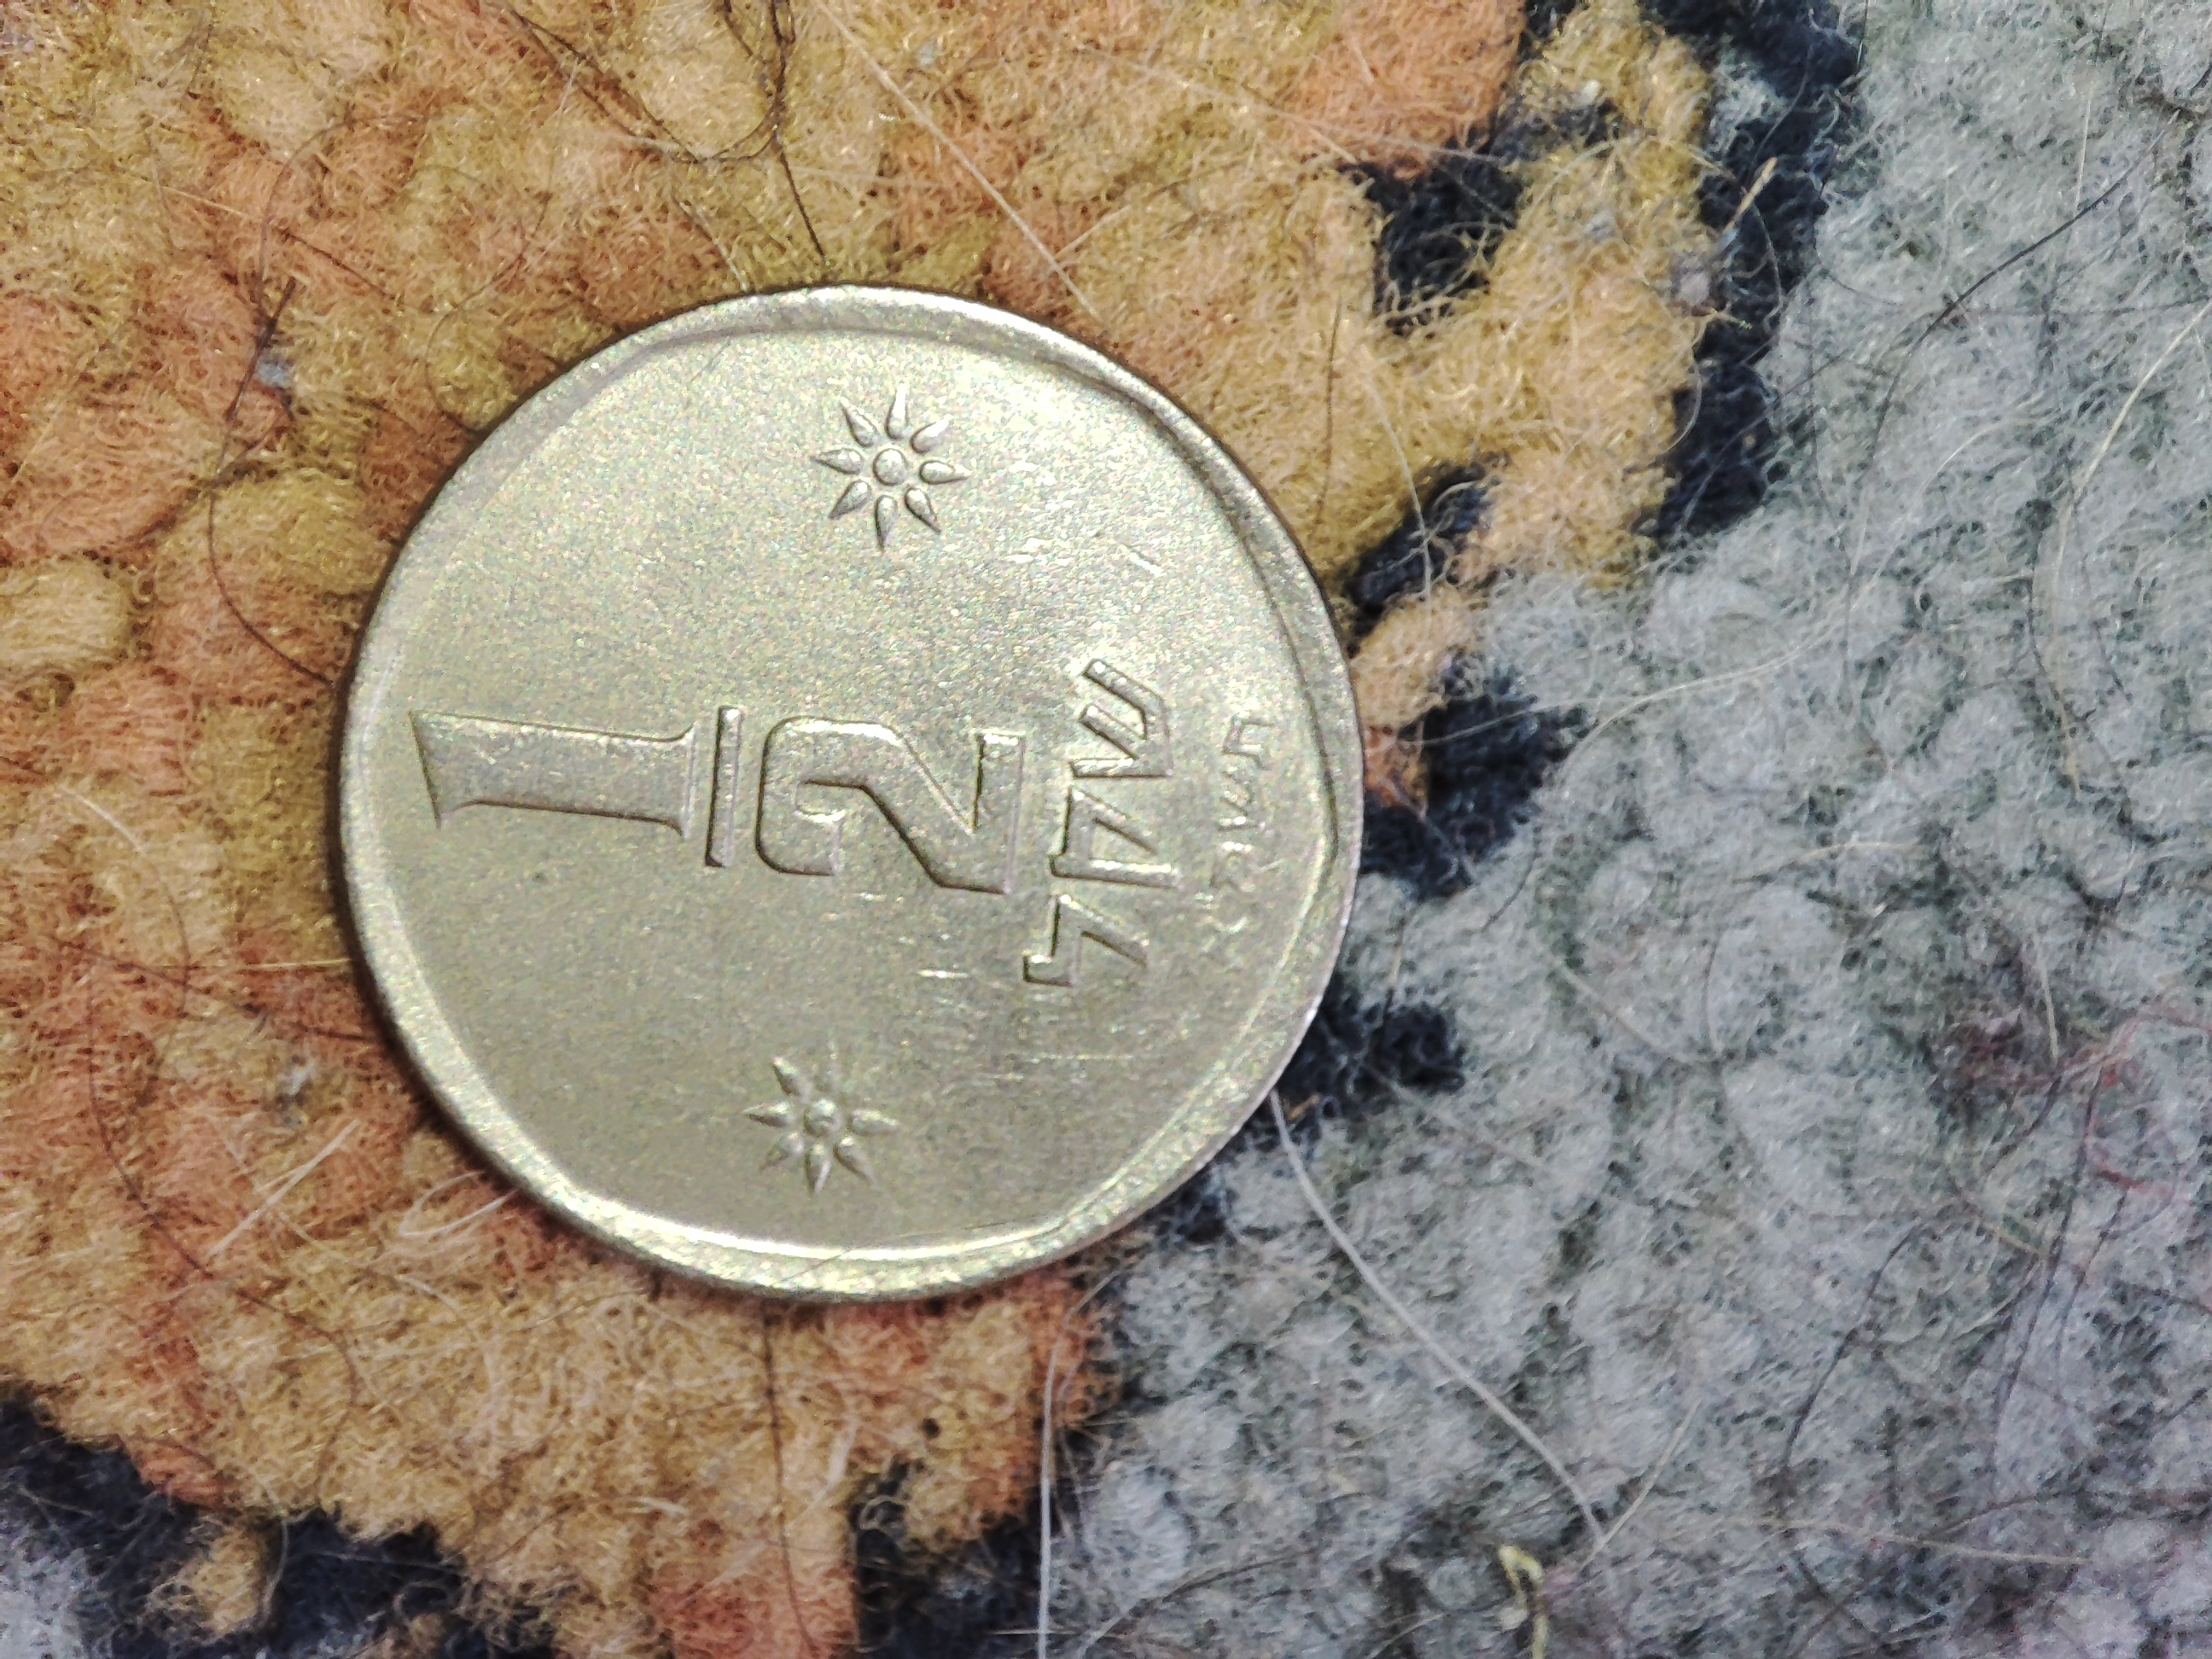1/2 old sheqel: (322, 275, 1374, 1314)
